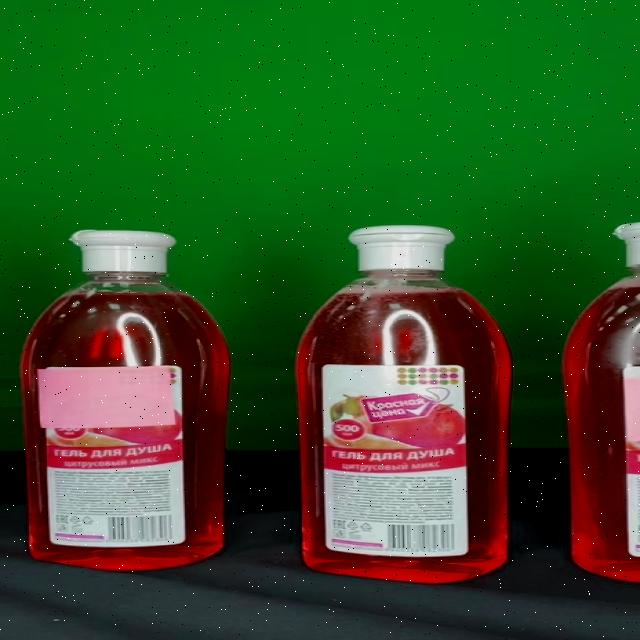Bottle: (294, 226, 510, 583), (19, 229, 232, 570)
Cap: (348, 226, 454, 270), (71, 229, 176, 273)
